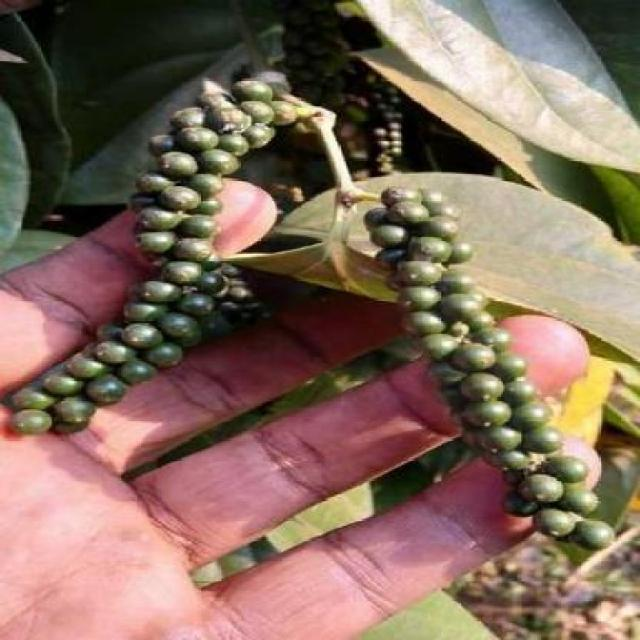UNRIPE: (22, 72, 293, 468), (349, 191, 620, 548)
